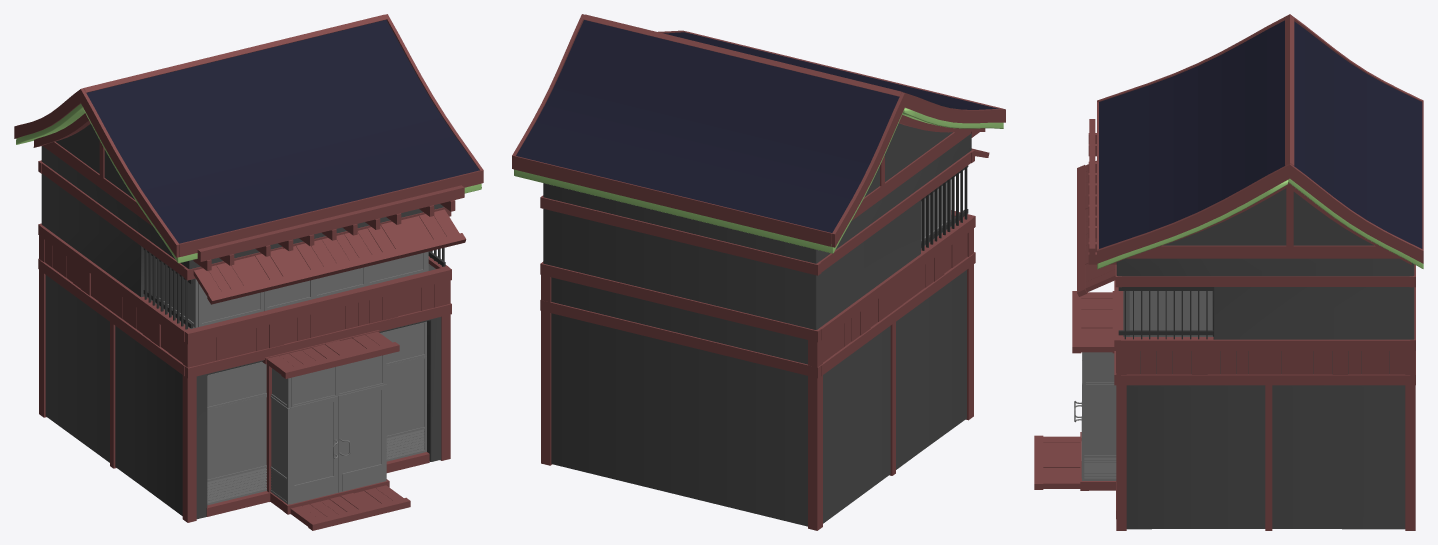
File: SM_building_traditional_02.fbx
The picture shows the model from 3 angles, left to right: view 1: azimuth 30°, elevation 25°; view 2: azimuth 150°, elevation 25°; view 3: azimuth 270°, elevation 25°; orthographic projection. The views are drawn at different scales.
Visible parts, largest first — view 1: Box54932566; view 2: Box54932566; view 3: Box54932566.
Part boxes in pixels (x1,y1,x2,y2): Box54932566: (14, 14, 483, 530); Box54932566: (512, 14, 1005, 530); Box54932566: (1034, 14, 1423, 530).
Bounding box in the file's own units: 296 × 347 × 324.
